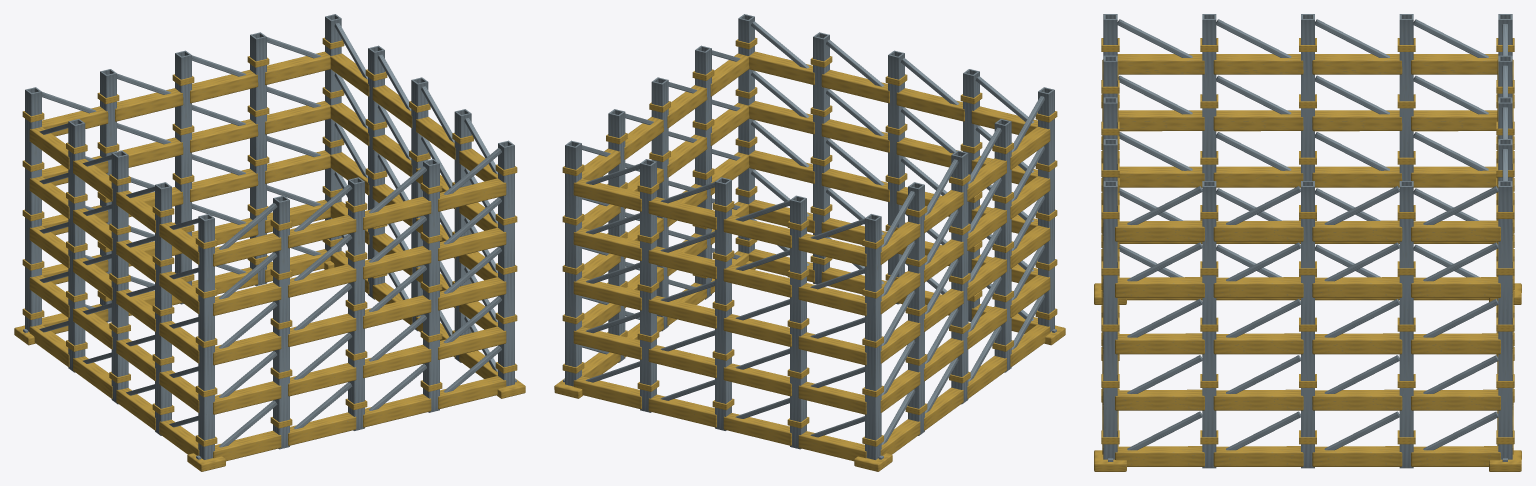
The picture shows the model from 3 angles, left to right: view 1: azimuth 30°, elevation 25°; view 2: azimuth 150°, elevation 25°; view 3: azimuth 270°, elevation 25°; orthographic projection. The views are drawn at different scales.
Visible parts, largest first — view 1: Tier 0 side 0 post 0, Tier 0 side 1 post 0, Tier 0 side 0 post 3, Tier 0 side 0 post 2, Tier 0 side 0 post 1, Tier 0 side 3 post 2, Tier 0 side 3 post 1, Tier 0 side 3 post 0, Tier 0 side 3 post 3, Tier 0 side 2 post 1, Tier 0 side 2 post 2, Tier 0 side 1 post 3 (+68 smaller); view 2: Tier 0 side 3 post 0, Tier 0 side 2 post 0, Tier 0 side 2 post 2, Tier 0 side 2 post 1, Tier 0 side 2 post 3, Tier 0 side 0 post 3, Tier 0 side 3 post 2, Tier 0 side 3 post 3, Tier 0 side 0 post 0, Tier 0 side 3 post 1, Tier 0 side 0 post 2, Tier 0 side 1 post 1 (+68 smaller); view 3: Tier 0 side 1 post 0, Tier 0 side 2 post 0, Tier 0 side 1 post 1, Tier 0 side 1 post 3, Tier 0 side 1 post 2, Tier 0 side 3 post 3, Tier 0 side 3 post 1, Tier 0 side 3 post 2, Tier 0 bay 1-2-2 service deck, Tier 0 bay 1-2-1 service deck, Tier 0 bay 1-2-3 service deck, Tier 0 bay 1-2-0 service deck (+66 smaller).
Part boxes in pixels (box(x1,y1,x2,y2)): Tier 0 side 0 post 0: box(198, 214, 214, 459); Tier 0 side 1 post 0: box(498, 140, 514, 386); Tier 0 side 0 post 3: box(423, 159, 439, 412); Tier 0 side 0 post 2: box(348, 177, 364, 430); Tier 0 side 0 post 1: box(273, 195, 289, 449); Tier 0 side 3 post 2: box(111, 150, 128, 404); Tier 0 side 3 post 1: box(68, 119, 85, 372); Tier 0 side 3 post 0: box(25, 87, 41, 331); Tier 0 side 3 post 3: box(155, 182, 171, 435); Tier 0 side 2 post 1: box(250, 32, 266, 286); Tier 0 side 2 post 2: box(175, 50, 191, 304); Tier 0 side 1 post 3: box(368, 45, 384, 299); Tier 0 side 3 post 0: box(865, 214, 881, 459); Tier 0 side 2 post 0: box(565, 140, 581, 386); Tier 0 side 2 post 2: box(715, 177, 731, 430); Tier 0 side 2 post 1: box(640, 159, 656, 412); Tier 0 side 2 post 3: box(790, 195, 806, 449); Tier 0 side 0 post 3: box(813, 32, 829, 284); Tier 0 side 3 post 2: box(951, 150, 968, 404); Tier 0 side 3 post 3: box(994, 119, 1011, 372); Tier 0 side 0 post 0: box(1038, 87, 1054, 331); Tier 0 side 3 post 1: box(908, 182, 924, 435); Tier 0 side 0 post 2: box(888, 50, 904, 304); Tier 0 side 1 post 1: box(695, 45, 711, 299); Tier 0 side 1 post 0: box(1103, 181, 1117, 459); Tier 0 side 2 post 0: box(1498, 181, 1512, 459); Tier 0 side 1 post 1: box(1202, 181, 1216, 468); Tier 0 side 1 post 3: box(1399, 181, 1413, 468); Tier 0 side 1 post 2: box(1301, 181, 1314, 468); Tier 0 side 3 post 3: box(1202, 14, 1216, 180); Tier 0 side 3 post 1: box(1399, 14, 1413, 180); Tier 0 side 3 post 2: box(1301, 14, 1314, 180); Tier 0 bay 1-2-2 service deck: box(1312, 333, 1402, 354); Tier 0 bay 1-2-1 service deck: box(1213, 333, 1303, 354); Tier 0 bay 1-2-3 service deck: box(1411, 333, 1500, 354); Tier 0 bay 1-2-0 service deck: box(1115, 333, 1204, 354).
Bounding box in the file's own units: 1.95 × 1.42 × 1.95.
2 materials, 2 textured.
